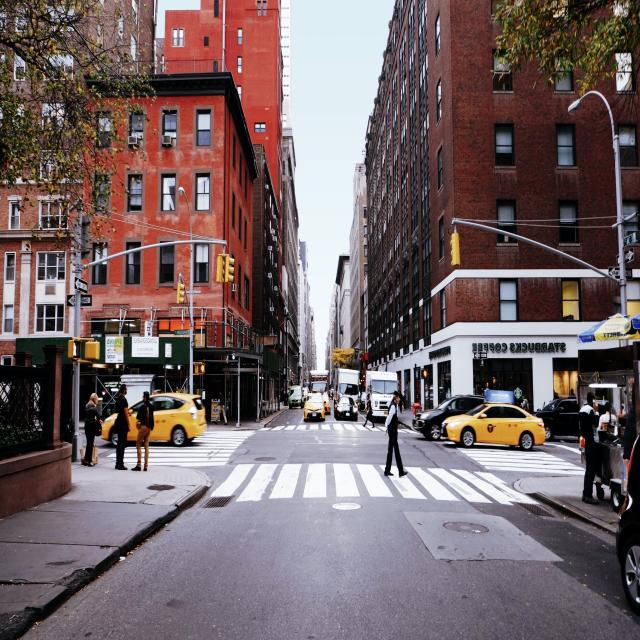adult: (382, 391, 411, 483), (580, 391, 599, 504), (135, 390, 157, 475), (112, 384, 132, 473), (83, 386, 103, 472)
